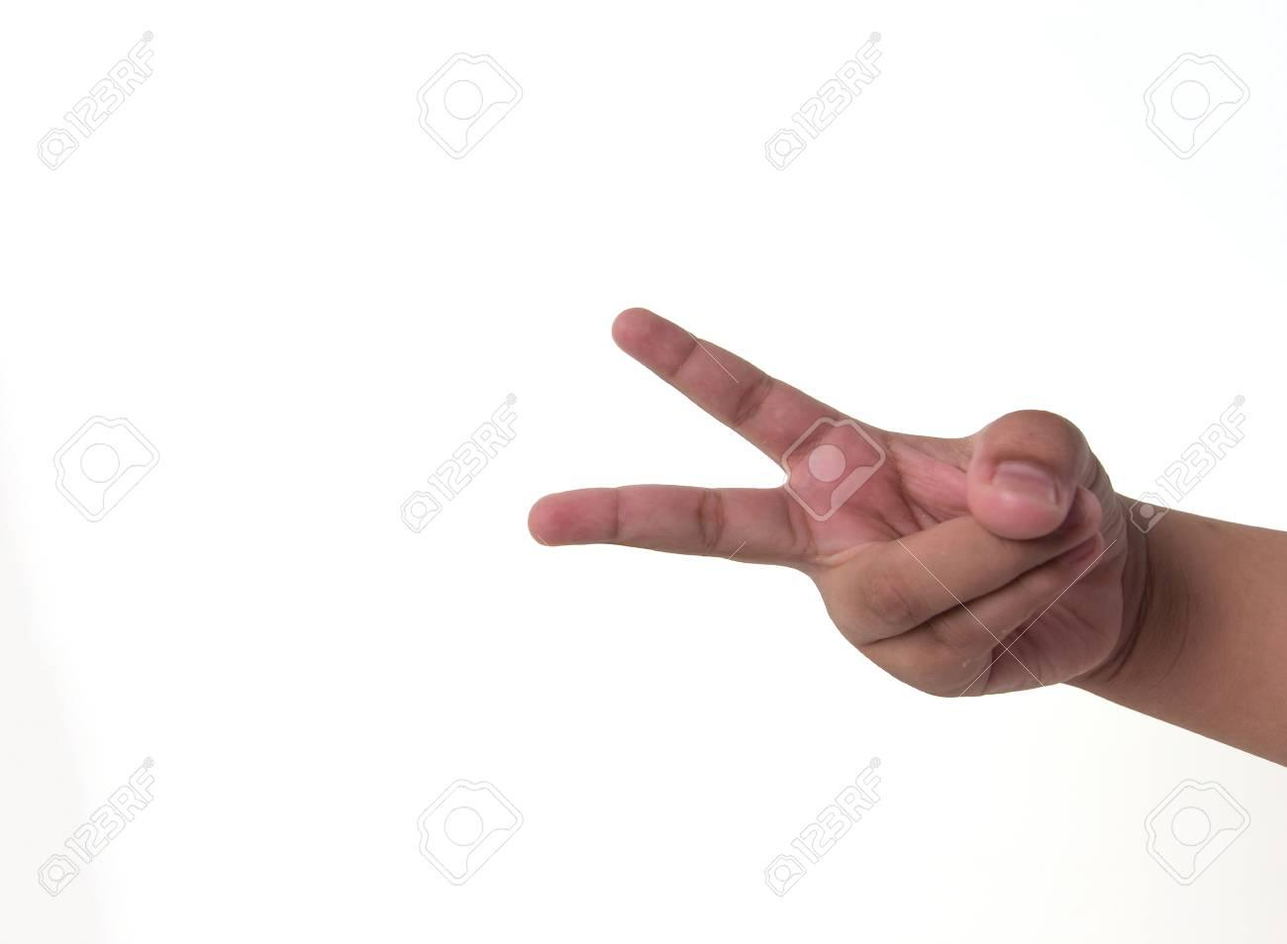peace_sign: (507, 297, 1180, 710)
